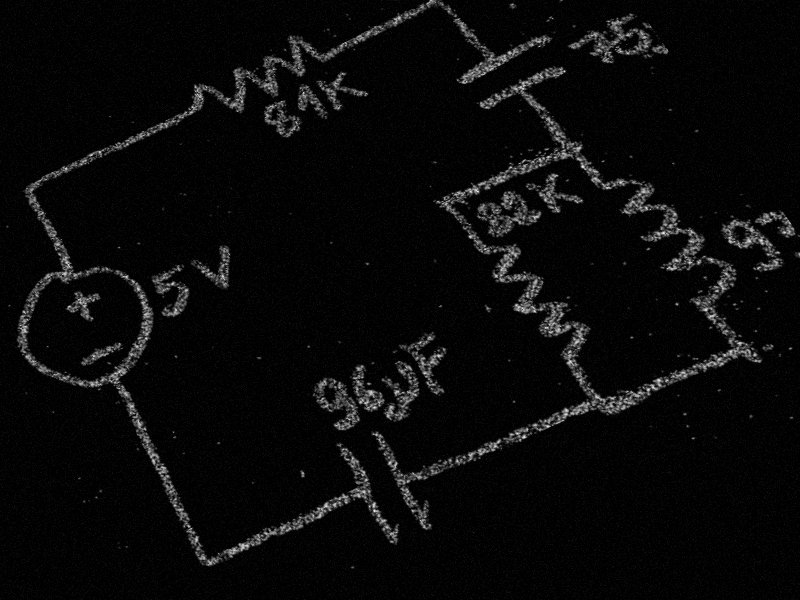1: (282, 78, 338, 130)
2: (493, 182, 549, 231)
3: (750, 205, 800, 269)
5: (136, 259, 211, 323), (595, 2, 665, 64)
6: (336, 361, 393, 416)
7: (562, 19, 637, 79)
8: (466, 194, 522, 244), (254, 94, 310, 143)
9: (710, 208, 794, 283), (299, 371, 371, 437)
F: (396, 327, 473, 399)
V: (182, 240, 255, 299)
k: (311, 61, 376, 117), (523, 166, 589, 221)
u: (370, 358, 439, 420), (641, 21, 670, 55)
